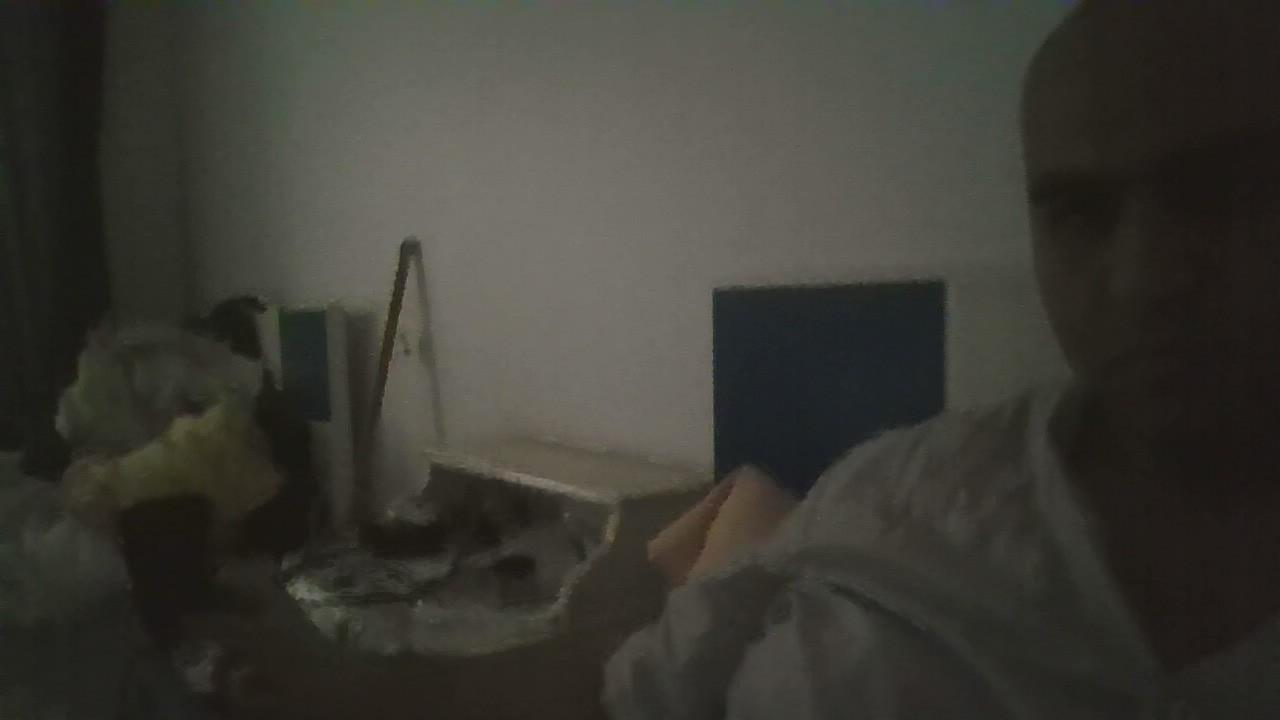cup: (117, 495, 212, 648)
